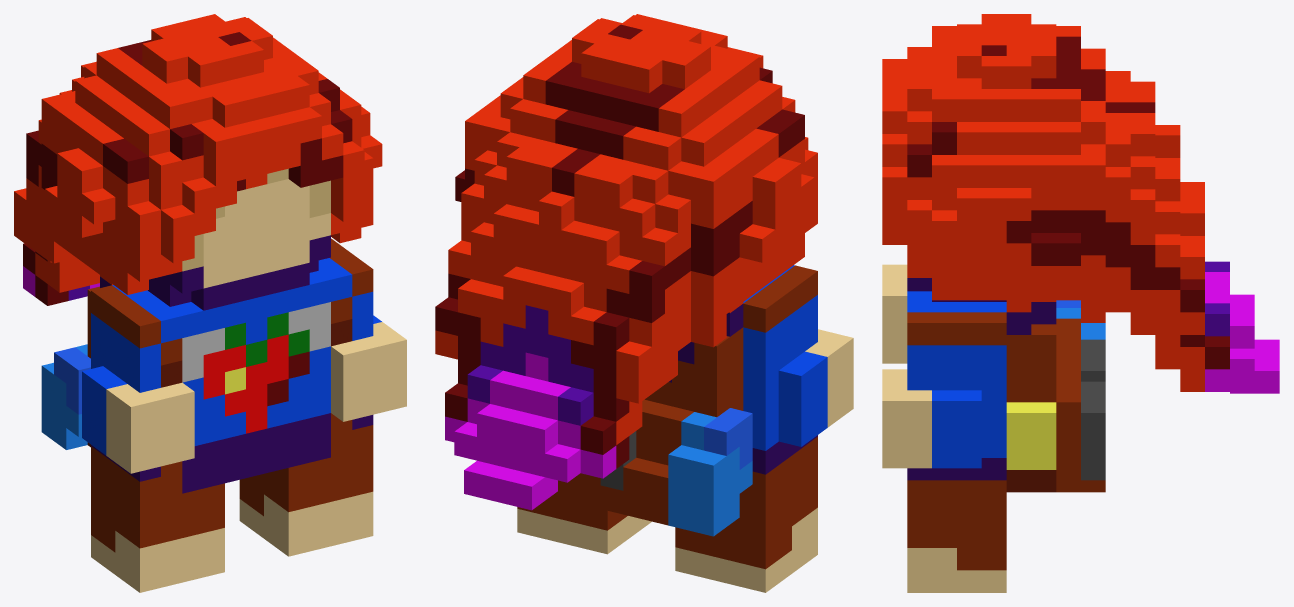
The model's file is madeline.glb.
3 views of the same model, side by side, from view 1: azimuth 30°, elevation 25°; view 2: azimuth 150°, elevation 25°; view 3: azimuth 270°, elevation 25° (orthographic). The views are drawn at different scales.
Visible parts, largest first — view 1: madeline; view 2: madeline; view 3: madeline.
Part boxes in pixels (bbox=[...]): madeline: bbox=[14, 14, 406, 592]; madeline: bbox=[435, 14, 853, 592]; madeline: bbox=[882, 14, 1279, 592].
Bounding box in the file's own units: 1.3 × 2.2 × 1.6.
1 material, 1 textured.
